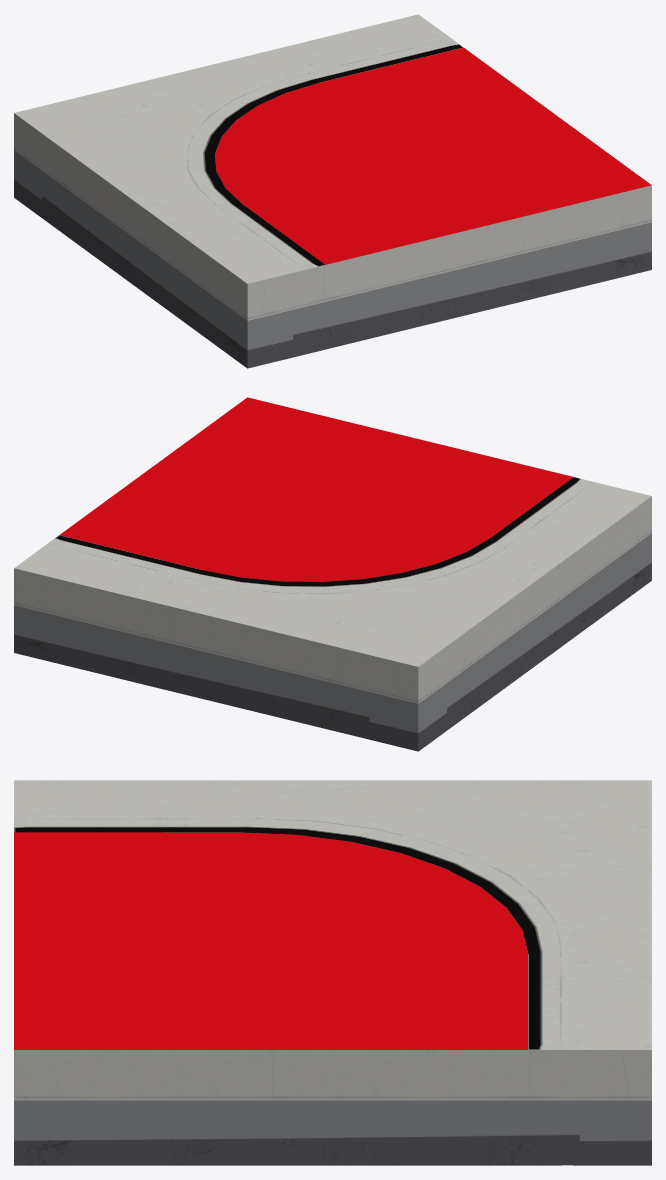
File: G_Env_Arch_Floor_Metal_09_CornerCurved.fbx
3 renders of one model, top to bottom at view 1: azimuth 30°, elevation 25°; view 2: azimuth 150°, elevation 25°; view 3: azimuth 270°, elevation 25°, orthographic. The views are drawn at different scales.
Visible parts, largest first — view 1: G_Env_Arch_Floor_Metal_09_CornerCurved; view 2: G_Env_Arch_Floor_Metal_09_CornerCurved; view 3: G_Env_Arch_Floor_Metal_09_CornerCurved.
Boxes of the visible parts, box(x1,y1,x2,y2) form: G_Env_Arch_Floor_Metal_09_CornerCurved: box(14, 14, 651, 368); G_Env_Arch_Floor_Metal_09_CornerCurved: box(14, 397, 651, 751); G_Env_Arch_Floor_Metal_09_CornerCurved: box(14, 780, 651, 1165).
Bounding box in the file's own units: 500 × 100 × 500.
